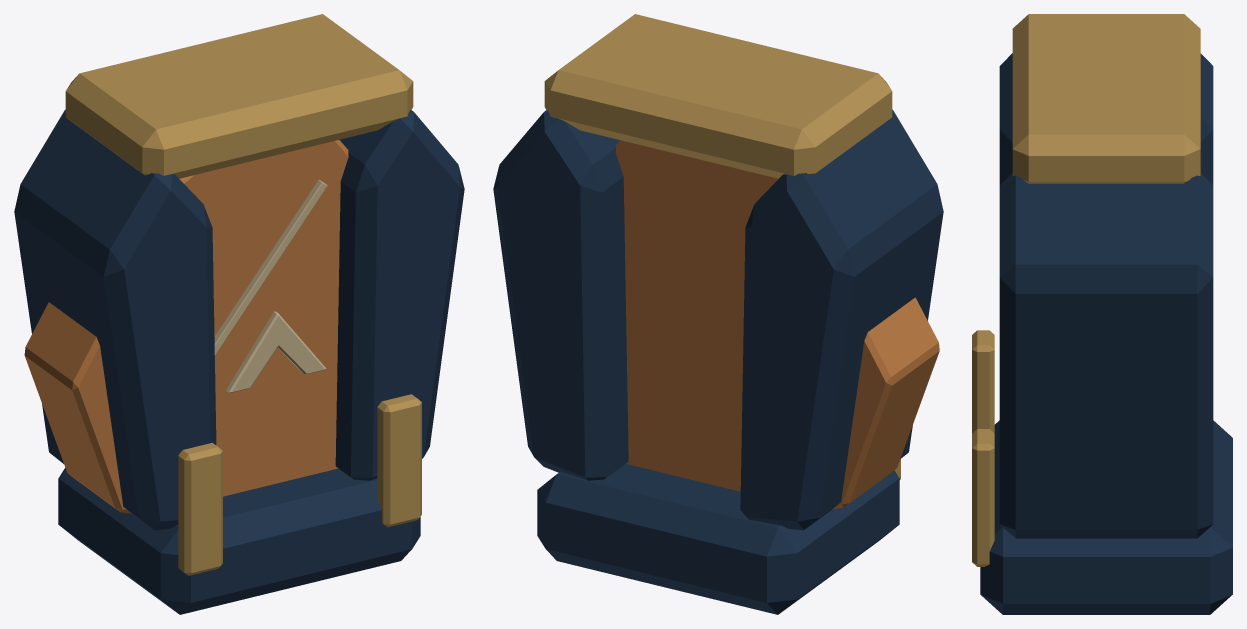
Rendered from DAMAGE_CELL.lo.glb.
The picture shows the model from 3 angles, left to right: view 1: azimuth 30°, elevation 25°; view 2: azimuth 150°, elevation 25°; view 3: azimuth 270°, elevation 25°; orthographic projection.
Parts seen in each view (by area): view 1: Body_Mesh; view 2: Body_Mesh; view 3: Body_Mesh.
Part boxes in pixels (box(x1,y1,x2,y2)): Body_Mesh: box(14, 14, 464, 614); Body_Mesh: box(493, 14, 943, 614); Body_Mesh: box(972, 14, 1232, 614).
Size of the model in its own units: 0.6777 by 0.8275 by 0.4025.
